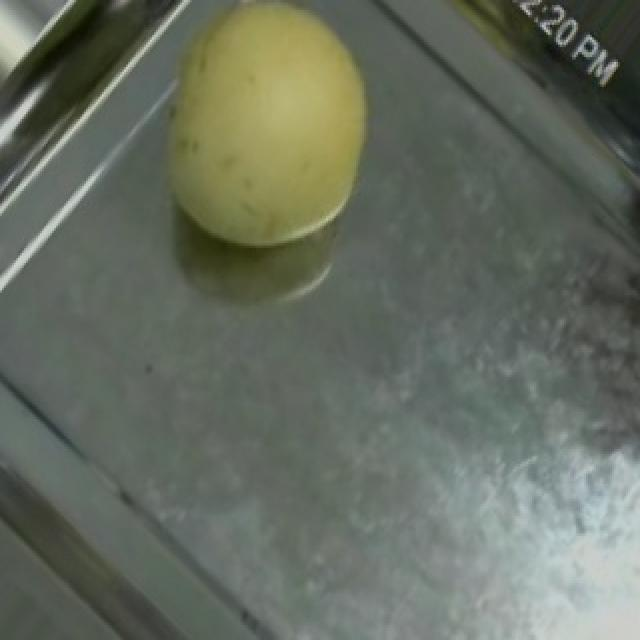Fruit: (118, 0, 416, 288)
